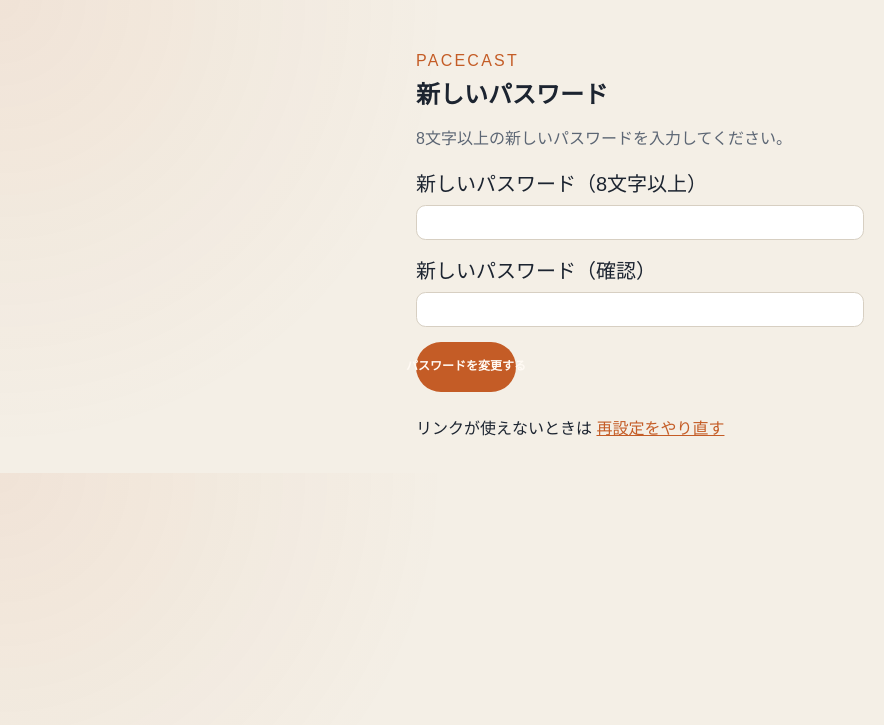
Test: 新しいパスワード › パスワードが違うと送らない
In the password field labelled "新しいパスワード（8文字以上）": (640, 223) [416,205,864,240], type "secret123"
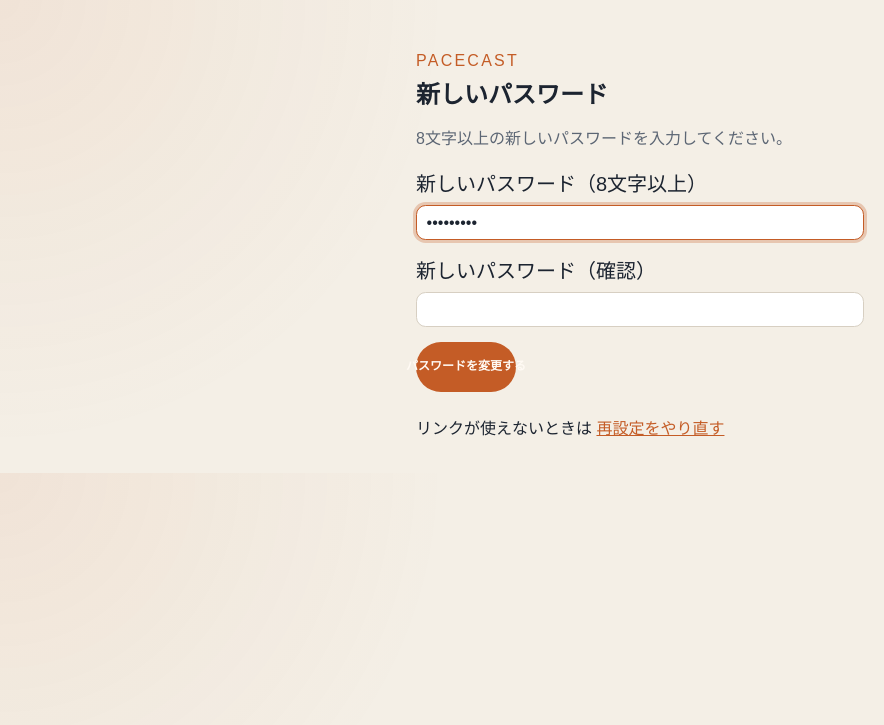
In the password field labelled "新しいパスワード（確認）": (640, 310) [416,292,864,327], type "secret999"
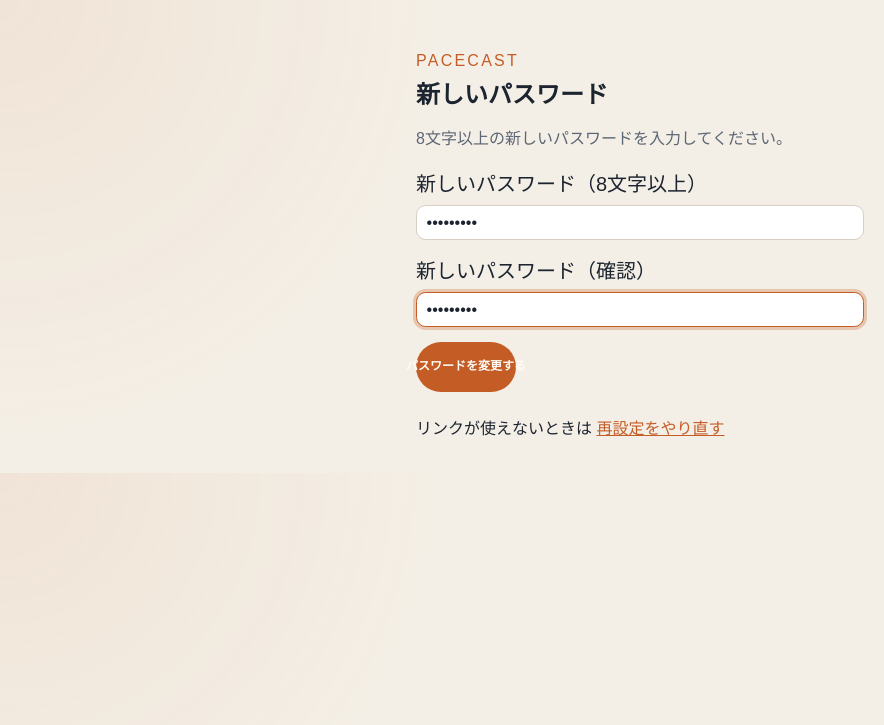
Click the button "パスワードを変更する": (466, 366) [416,342,516,392]
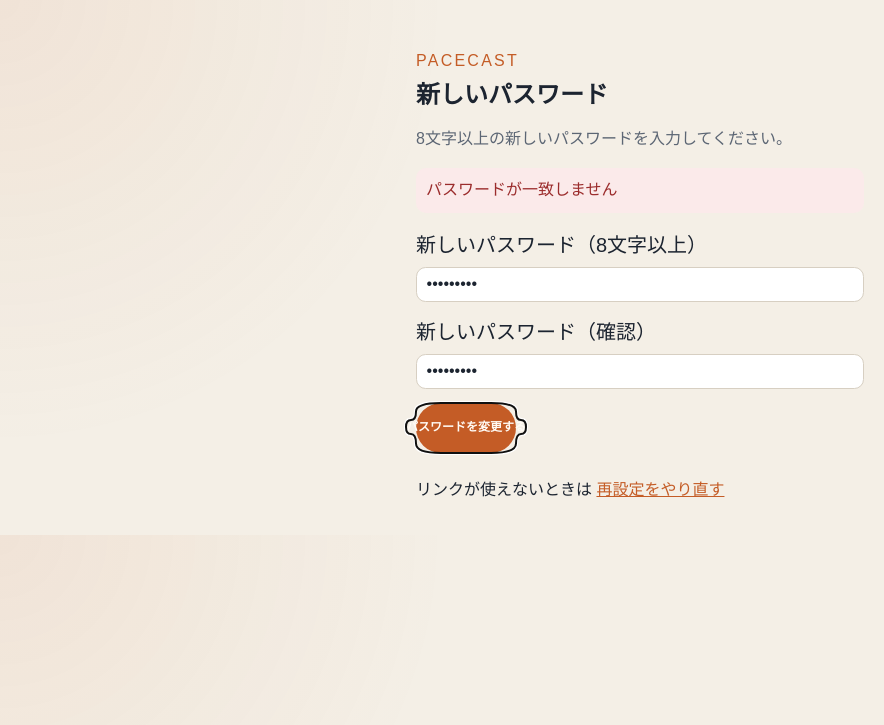
Now the text "パスワードが一致しません" is shown, box [416,168,864,213]
